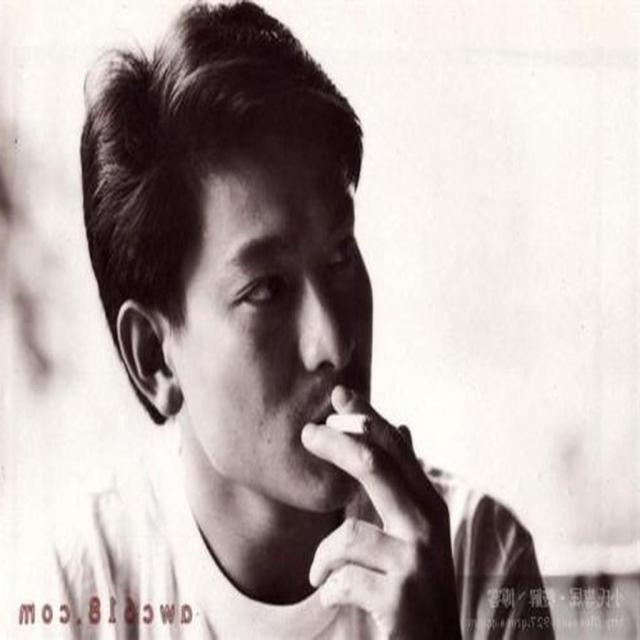smoking: (116, 2, 392, 533)
